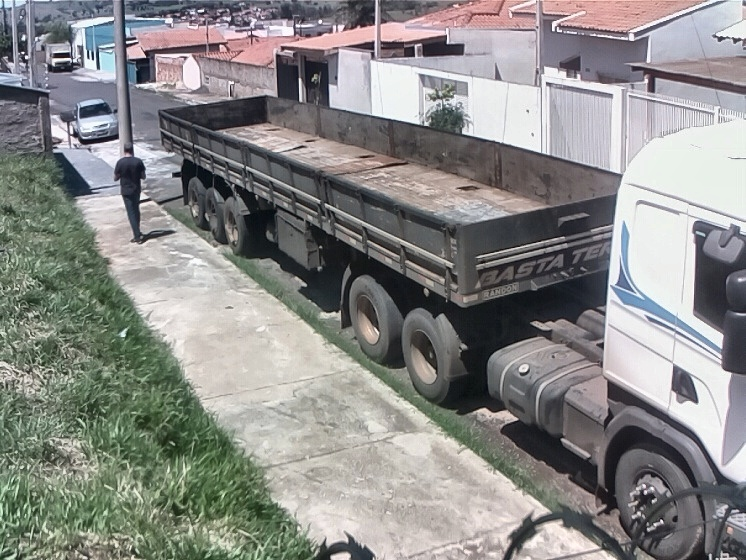person: (111, 139, 153, 246)
